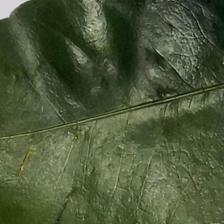healthy: (2, 4, 224, 190)
